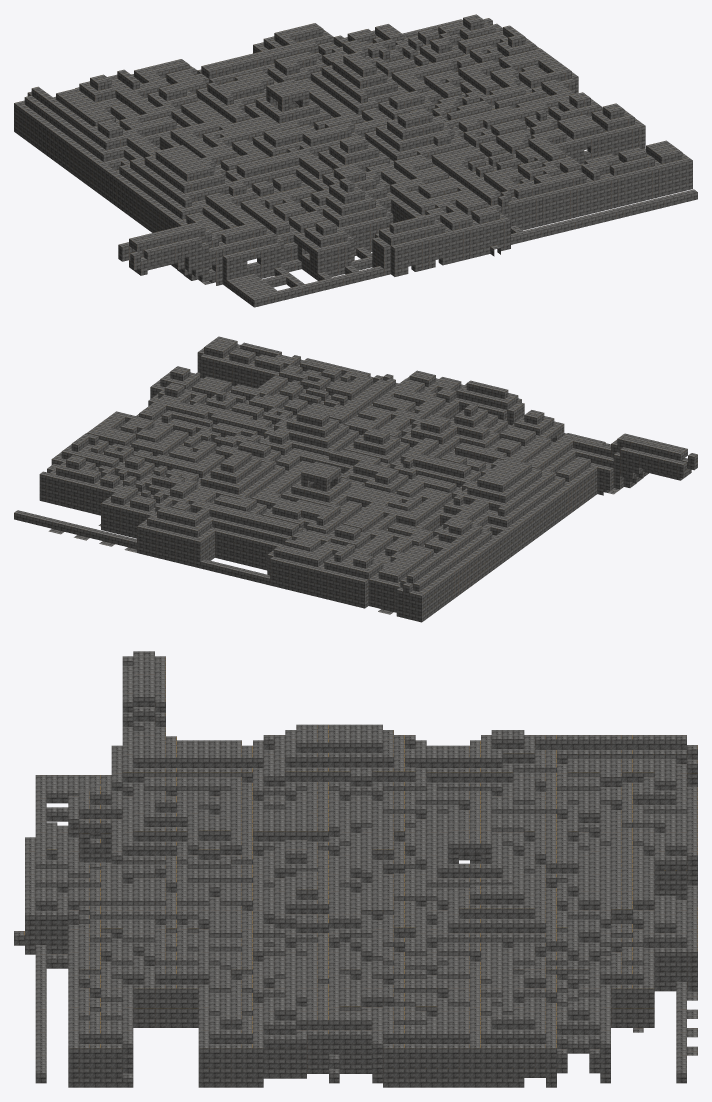
Rendered from prototypeAlpha1ETop.fbx.
The picture shows the model from 3 angles, top to bottom: view 1: azimuth 30°, elevation 25°; view 2: azimuth 150°, elevation 25°; view 3: azimuth 270°, elevation 25°; orthographic projection. The views are drawn at different scales.
Parts seen in each view (by area): view 1: test_Stone_Bricks; view 2: test_Stone_Bricks; view 3: test_Stone_Bricks.
Boxes of the visible parts, <box> form: test_Stone_Bricks: <box>14,14,697,307</box>; test_Stone_Bricks: <box>14,336,697,622</box>; test_Stone_Bricks: <box>14,651,697,1087</box>.
Bounding box in the file's own units: 158 × 16 × 126.
Materials: 1 (1 with a texture image).
